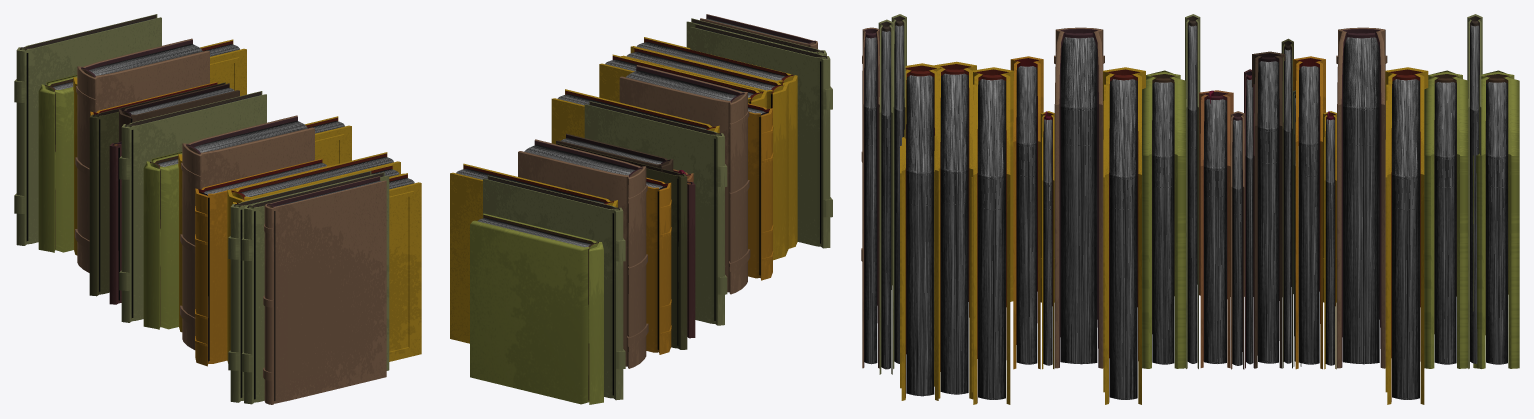
File: Shelf6.fbx
3 renders of one model, left to right at view 1: azimuth 30°, elevation 25°; view 2: azimuth 150°, elevation 25°; view 3: azimuth 270°, elevation 25°, orthographic. The views are drawn at different scales.
Visible parts, largest first — view 1: pCube103, pCube14 (×2), pCube71 (×2), pCube12 (×5), pCube11 (×2), pCube15 (×2), pCube102, pCube67, pCube101, pages13 (×2), pCube69, pCube68 (+7 smaller); view 2: pCube104, pCube14 (×2), pCube71 (×2), pCube12 (×5), pCube101, pCube15 (×2), pages14 (×5), pCube67, pages13 (×2), pCube69, pages16 (×2), pCube68 (+7 smaller); view 3: pages14 (×5), pages13 (×2), pCube12 (×5), pCube11 (×2), pages15 (×2), pages11 (×2), pCube71 (×2), pages16 (×2), pCube104, pages8, pages28, pages17 (+19 smaller).
Part boxes in pixels (bbox=[...]): pCube103: bbox=[263, 176, 386, 404]; pCube14 (×2): bbox=[14, 14, 266, 322]; pCube71 (×2): bbox=[75, 38, 314, 349]; pCube12 (×5): bbox=[73, 39, 421, 363]; pCube11 (×2): bbox=[38, 75, 182, 329]; pCube15 (×2): bbox=[90, 81, 330, 366]; pCube102: bbox=[241, 172, 389, 404]; pCube67: bbox=[89, 82, 225, 296]; pCube101: bbox=[228, 171, 374, 402]; pages13 (×2): bbox=[89, 44, 307, 152]; pCube69: bbox=[109, 141, 121, 304]; pCube68: bbox=[118, 83, 239, 141]; pCube104: bbox=[470, 213, 603, 404]; pCube14 (×2): bbox=[483, 101, 727, 400]; pCube71 (×2): bbox=[518, 65, 750, 368]; pCube12 (×5): bbox=[450, 37, 797, 343]; pCube101: bbox=[690, 24, 832, 248]; pCube15 (×2): bbox=[646, 103, 773, 354]; pages14 (×5): bbox=[456, 42, 785, 203]; pCube67: bbox=[556, 143, 687, 349]; pages13 (×2): bbox=[524, 70, 736, 175]; pCube69: bbox=[687, 181, 695, 338]; pages16 (×2): bbox=[489, 105, 715, 395]; pCube68: bbox=[556, 133, 673, 171]; pages14 (×5): bbox=[906, 73, 1419, 399]; pages13 (×2): bbox=[1060, 37, 1379, 364]; pCube12 (×5): bbox=[900, 61, 1428, 404]; pCube11 (×2): bbox=[1142, 70, 1468, 368]; pages15 (×2): bbox=[1152, 82, 1456, 364]; pages11 (×2): bbox=[1016, 66, 1319, 364]; pCube71 (×2): bbox=[1054, 27, 1387, 368]; pages16 (×2): bbox=[1187, 25, 1479, 363]; pCube104: bbox=[1473, 70, 1519, 368]; pages8: bbox=[1258, 61, 1278, 363]; pages28: bbox=[1486, 82, 1507, 364]; pages17: bbox=[1204, 99, 1226, 363].
Size of the model in its own units: 1.09 by 1.07 by 2.31.
